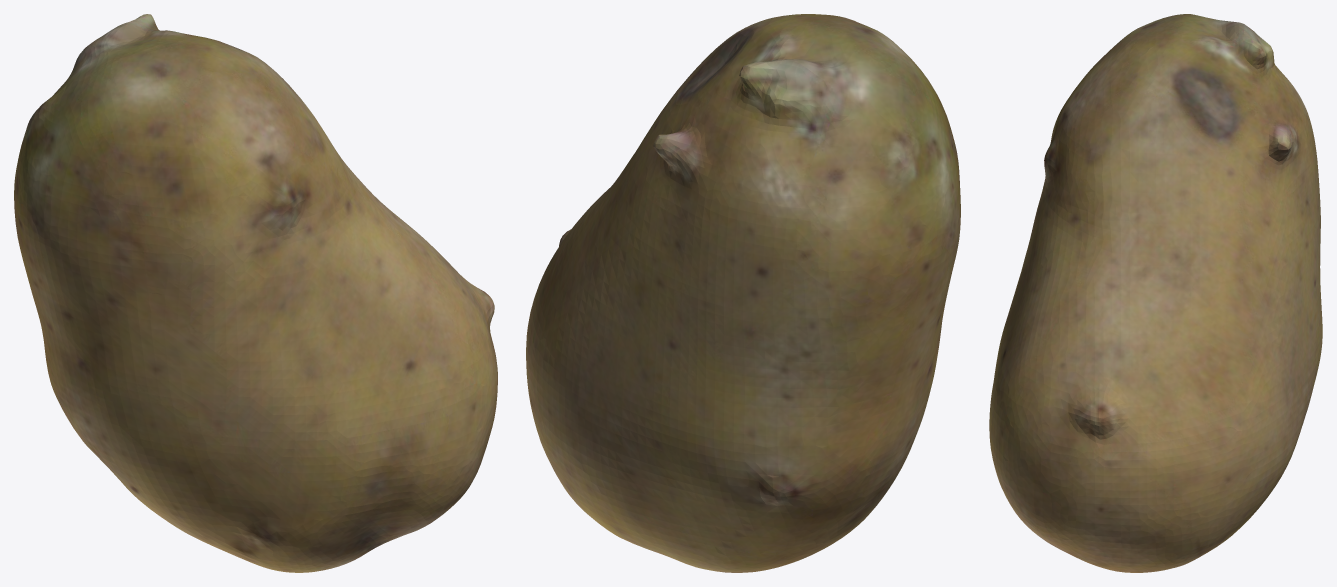
File: potatoPaperScan4.obj
3 views of the same model, side by side, from view 1: azimuth 30°, elevation 25°; view 2: azimuth 150°, elevation 25°; view 3: azimuth 270°, elevation 25° (orthographic). The views are drawn at different scales.
Visible parts, largest first — view 1: potatoPaperScan4; view 2: potatoPaperScan4; view 3: potatoPaperScan4.
Part boxes in pixels (x1,y1,x2,y2): potatoPaperScan4: (14,14,497,572); potatoPaperScan4: (526,14,960,572); potatoPaperScan4: (989,14,1322,572).
Bounding box in the file's own units: 68.38 × 83.84 × 53.41.
